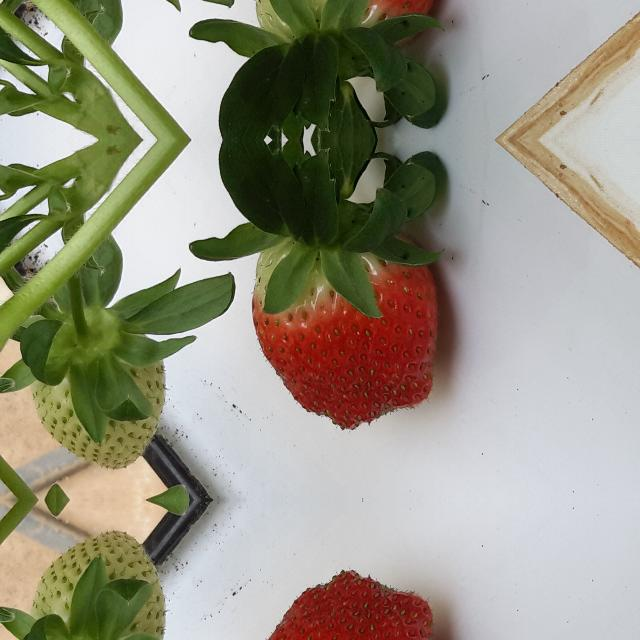Health_100: (252, 235, 438, 430), (251, 569, 438, 640), (251, 0, 438, 44)
Health_25: (31, 314, 166, 472), (30, 528, 165, 640)
